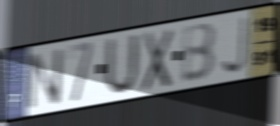7: (68, 39, 94, 106)
B: (181, 21, 218, 85)
J: (219, 15, 249, 77)
N: (26, 47, 64, 112)
U: (103, 32, 141, 99)
X: (140, 26, 175, 94)
